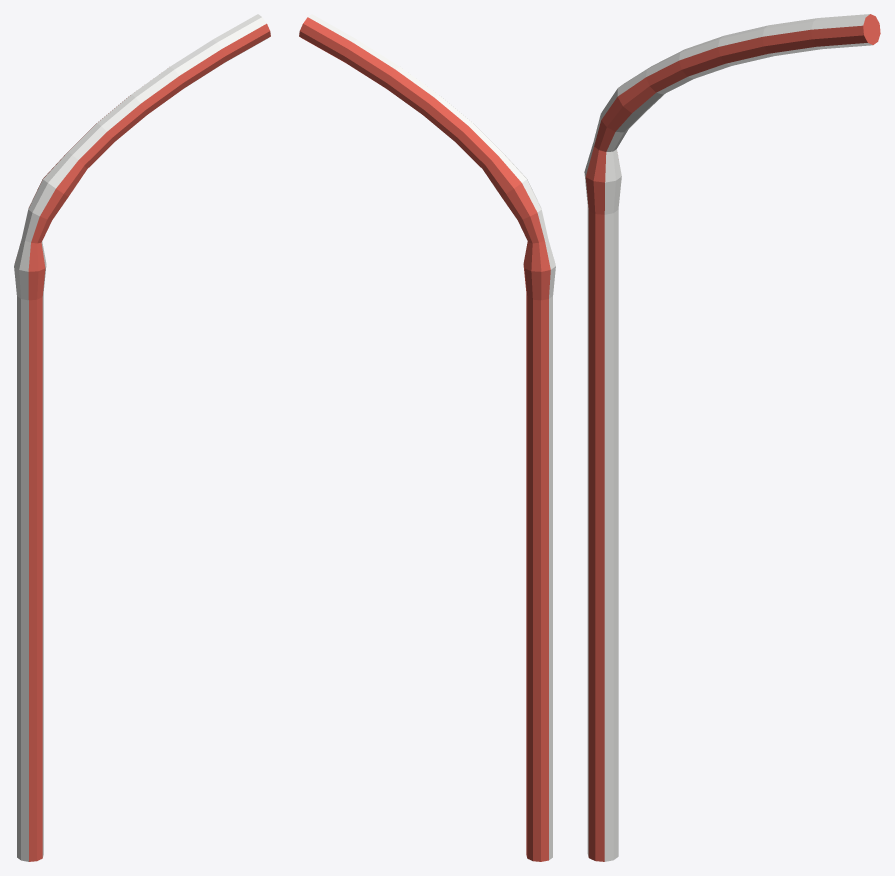
The model's file is straw.glb.
The picture shows the model from 3 angles, left to right: view 1: azimuth 30°, elevation 25°; view 2: azimuth 150°, elevation 25°; view 3: azimuth 330°, elevation 25°; orthographic projection. The views are drawn at different scales.
Visible parts, largest first — view 1: canudo; view 2: canudo; view 3: canudo.
Part boxes in pixels (x1,y1,x2,y2): canudo: [14, 14, 270, 861]; canudo: [299, 14, 555, 861]; canudo: [584, 14, 880, 861].
Bounding box in the file's own units: 0.0742 × 0.2223 × 0.00854.
